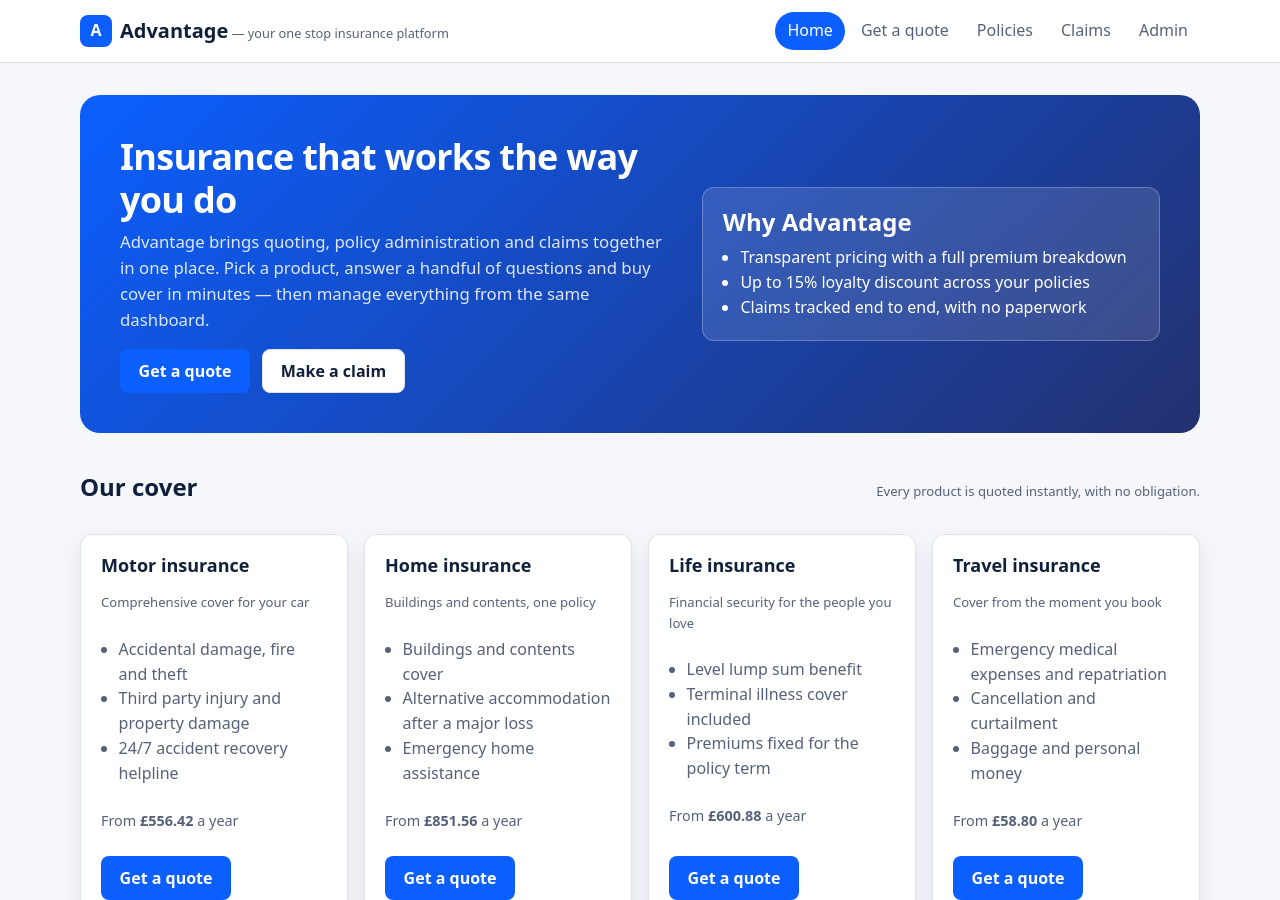
Test: Advantage platform › blocks the quote journey until the applicant details are valid
Click the button "Get a quote" below "Insurance that works the way you do" at (185, 371), box x1=120 y1=349 x2=250 y2=394
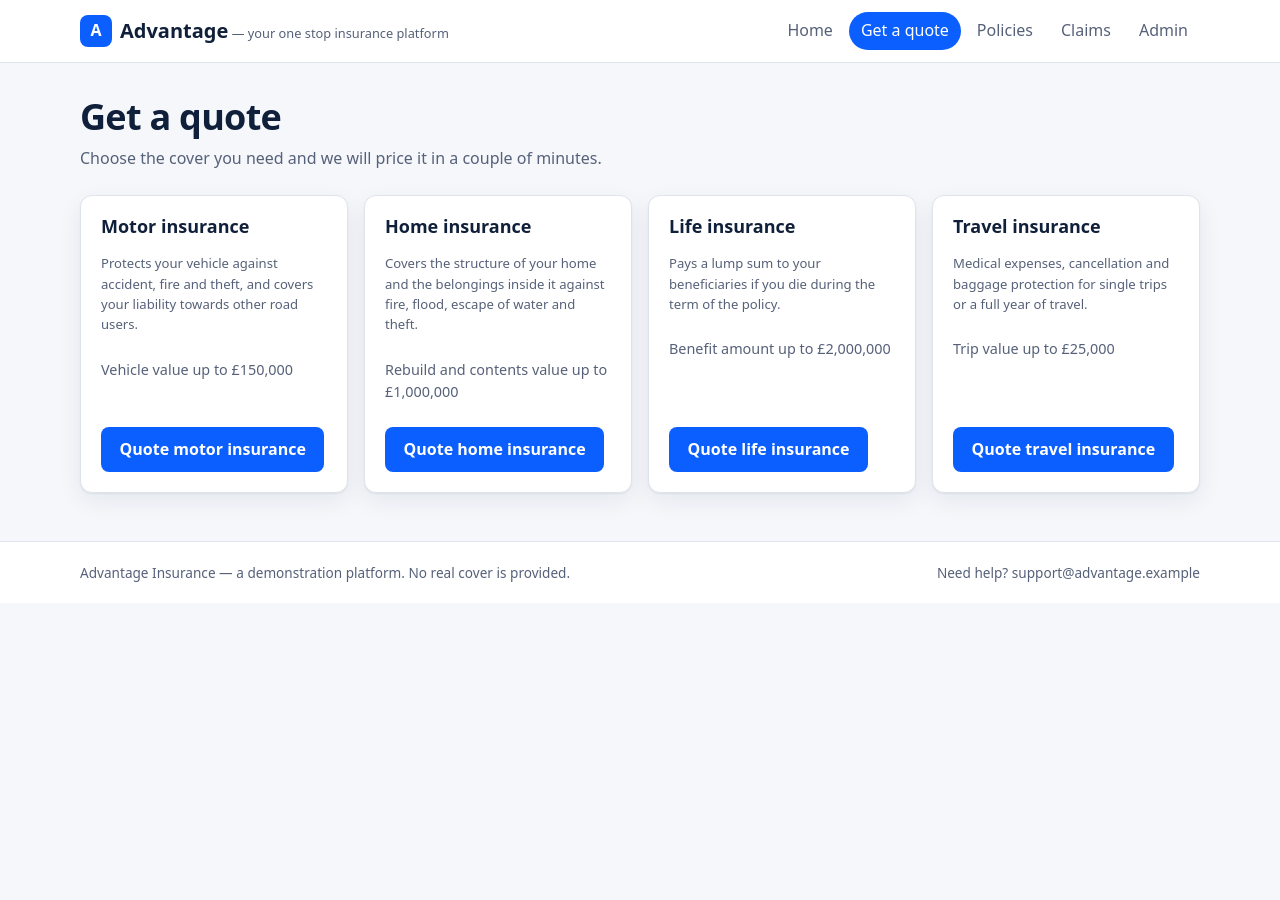
Click the button "Quote home insurance" at (495, 449), box x1=385 y1=427 x2=604 y2=472
(page scrolled)
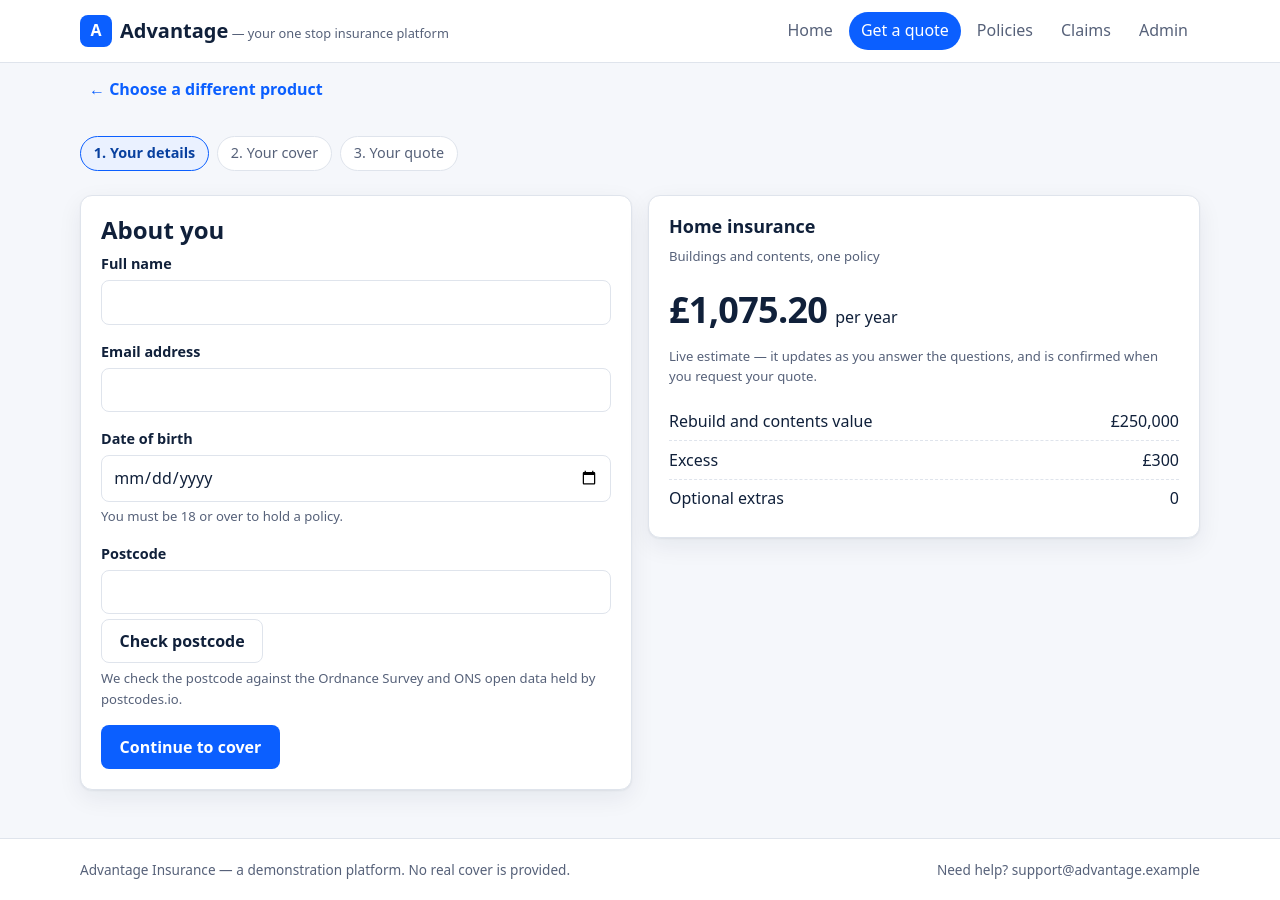
Click the button "Continue to cover" at (190, 747), box x1=101 y1=725 x2=280 y2=769
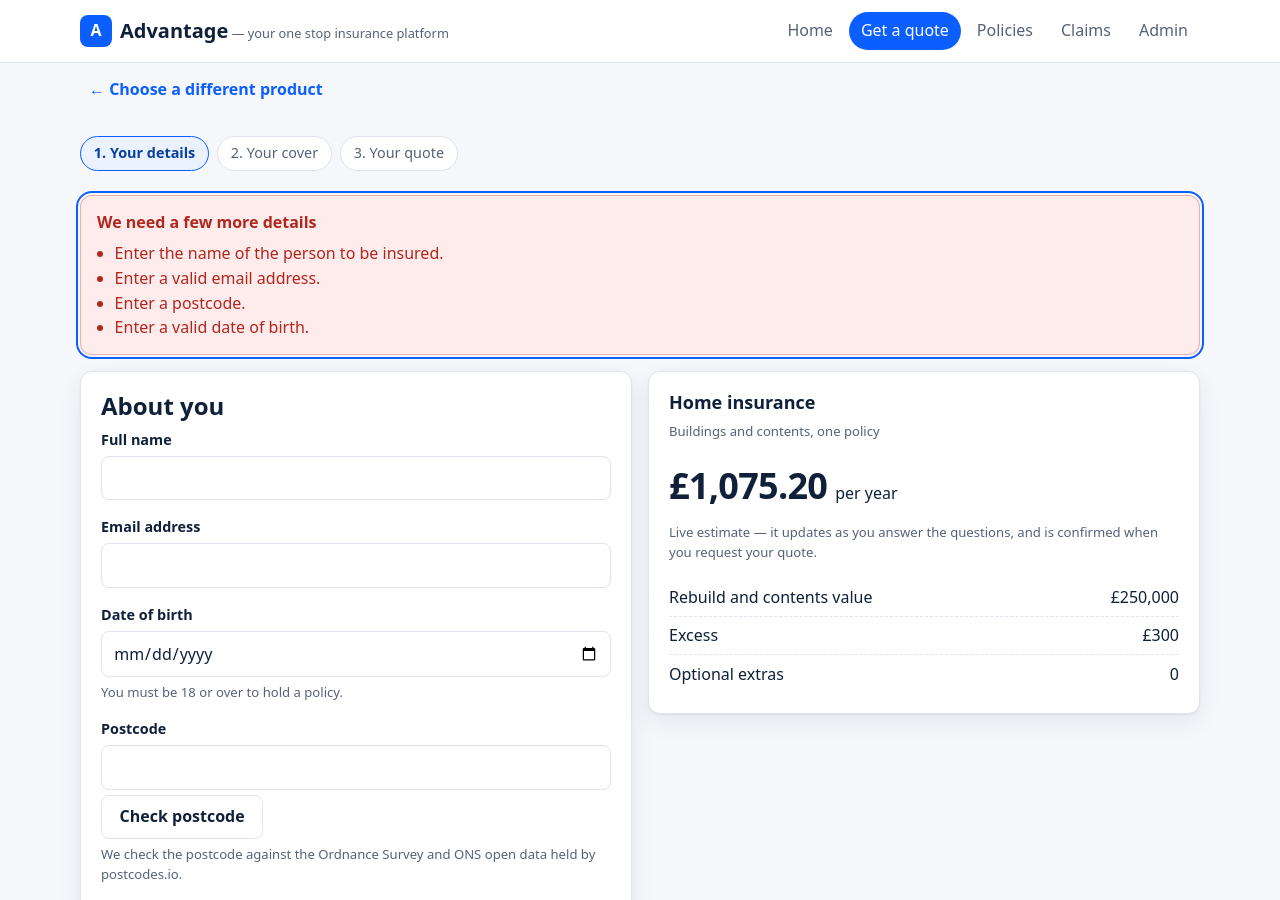
Expected: the list item "Enter the name of the person to be insured." is shown, x1=115 y1=242 x2=444 y2=264
Expected: the list item "Enter a valid email address." is shown, x1=115 y1=267 x2=320 y2=289
